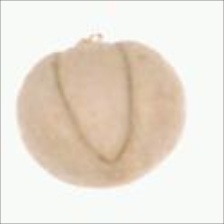L5: (53, 32, 133, 166)
L6: (15, 32, 188, 191)
